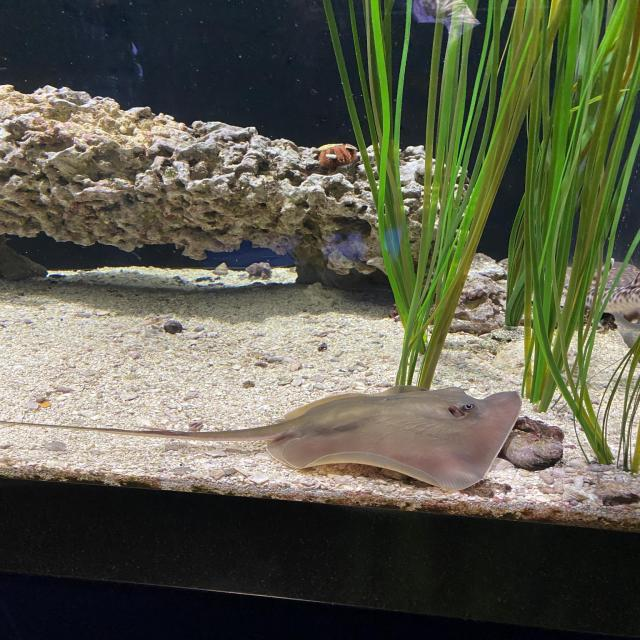stingray: (267, 388, 523, 493)
